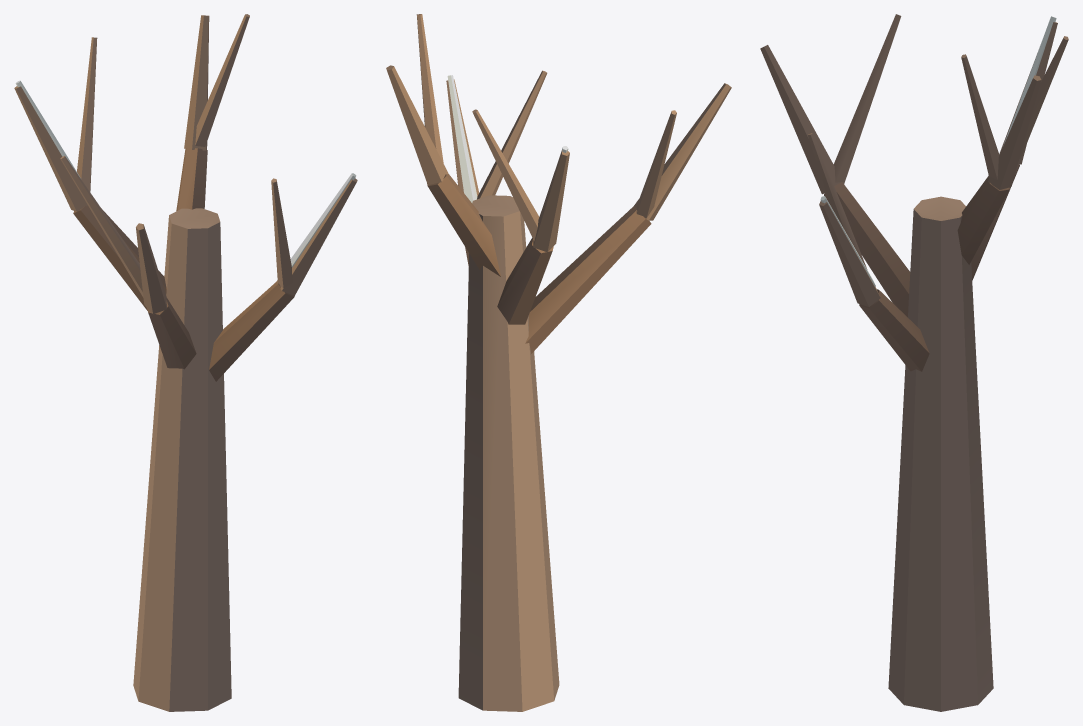
The model's file is forage_7_winter.glb.
The picture shows the model from 3 angles, left to right: view 1: azimuth 30°, elevation 25°; view 2: azimuth 150°, elevation 25°; view 3: azimuth 270°, elevation 25°; orthographic projection. The views are drawn at different scales.
Visible parts, largest first — view 1: Rohstoff 7 · winter; view 2: Rohstoff 7 · winter; view 3: Rohstoff 7 · winter.
Part boxes in pixels (box(x1,y1,x2,y2)): Rohstoff 7 · winter: box(14, 14, 357, 711); Rohstoff 7 · winter: box(386, 14, 731, 711); Rohstoff 7 · winter: box(760, 14, 1068, 711).
Bounding box in the file's own units: 1.22 × 2.92 × 1.22.
